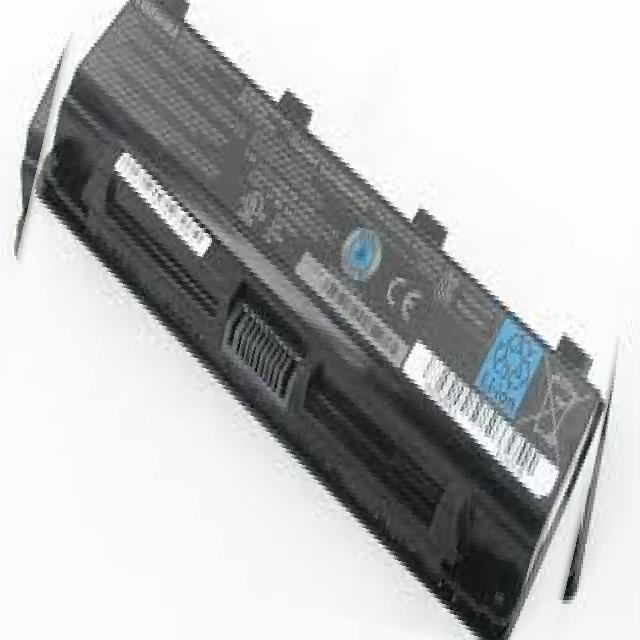Battery: (20, 0, 640, 640)
